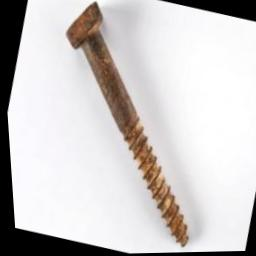Corroded-Bolt: (65, 2, 185, 248)
